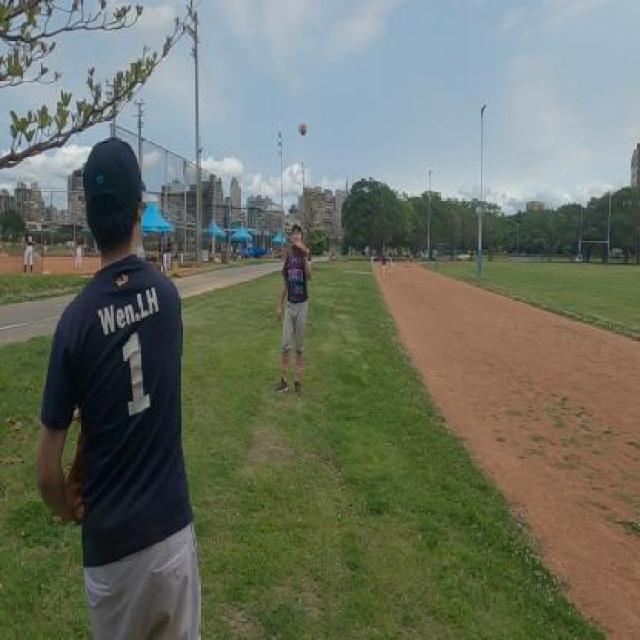baseball: (298, 121, 308, 136)
